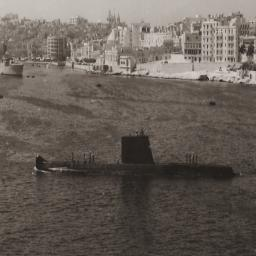submarine: (37, 127, 236, 179)
